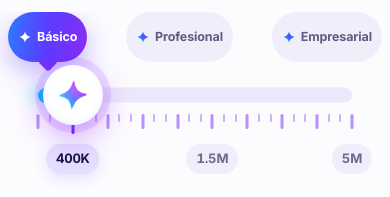
Test: barra del plan a medida › la píldora de la zona elegida se rellena; pulsar otra zona salta a ella
Click the button with test id "zone-2" at (327, 37), box x1=272 y1=12 x2=382 y2=62
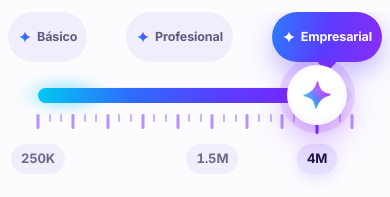
Expected: the button with test id "zone-2" is pressed, x1=272 y1=12 x2=382 y2=62
